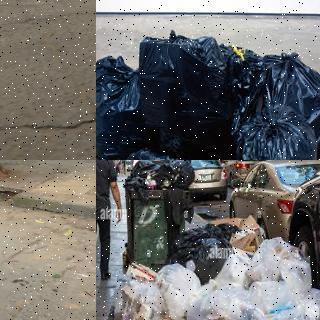Garbage: (137, 23, 256, 160), (251, 42, 320, 157), (96, 51, 159, 160), (228, 103, 320, 160), (103, 125, 231, 160), (166, 219, 235, 279), (243, 234, 313, 290), (182, 278, 269, 320), (107, 276, 186, 320), (152, 261, 206, 318), (211, 247, 257, 293), (264, 296, 320, 320), (125, 160, 167, 188), (161, 160, 195, 189), (166, 160, 194, 166)
